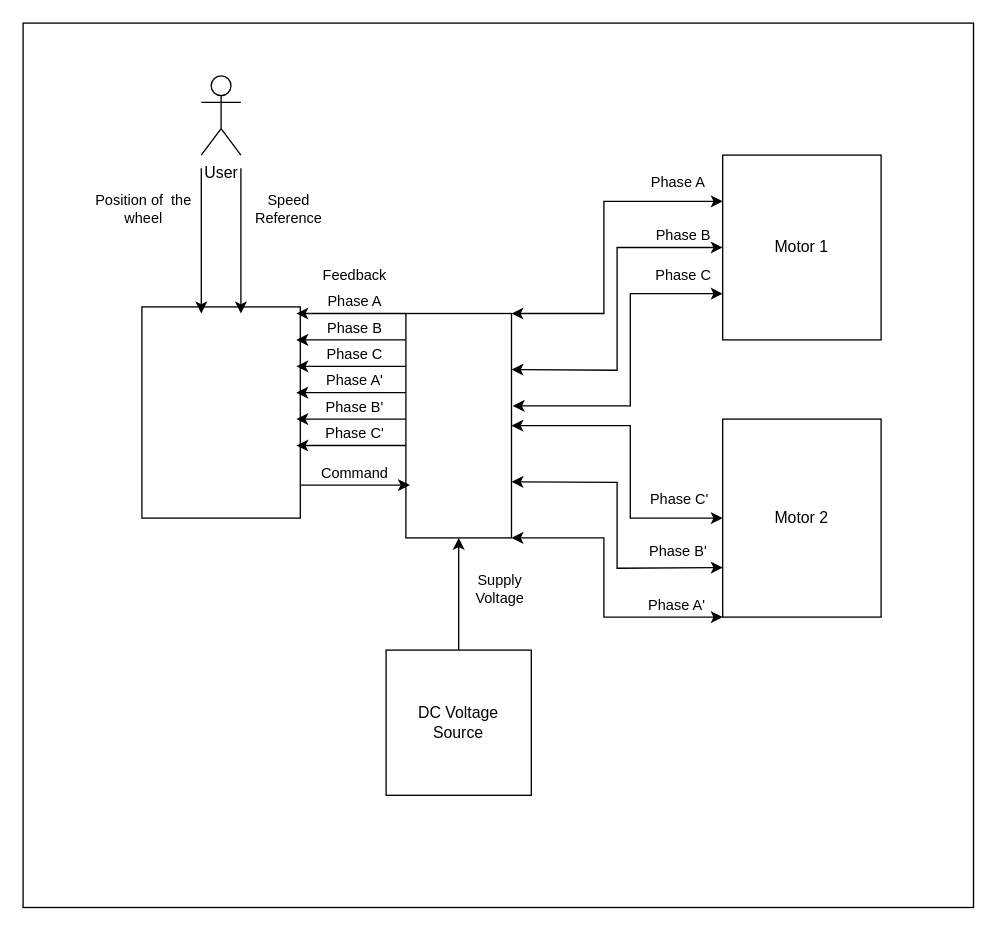
Image size: 997x931. Some labels were removed from this diagram. Each missing label, with the centre of its shape:
"Command Unit" belongs at pixel 220 412.
"Driver" belongs at pixel 458 425.
